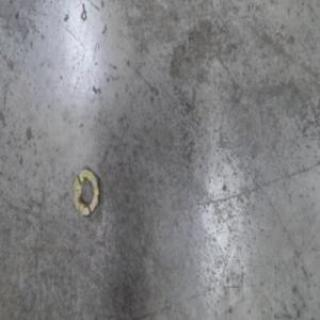Nuttrack_idkeyframe: (71, 167, 101, 218)
